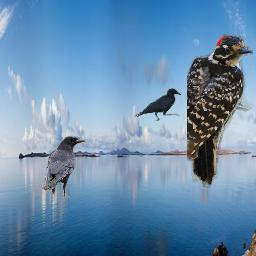Crow: (42, 136, 86, 198), (134, 88, 181, 121)
Woodpecker: (187, 33, 253, 188)
